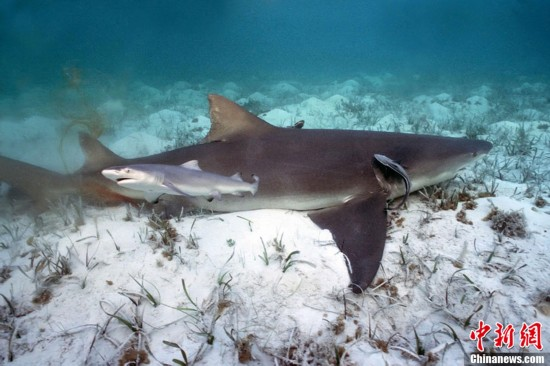shark: (1, 110, 503, 289)
